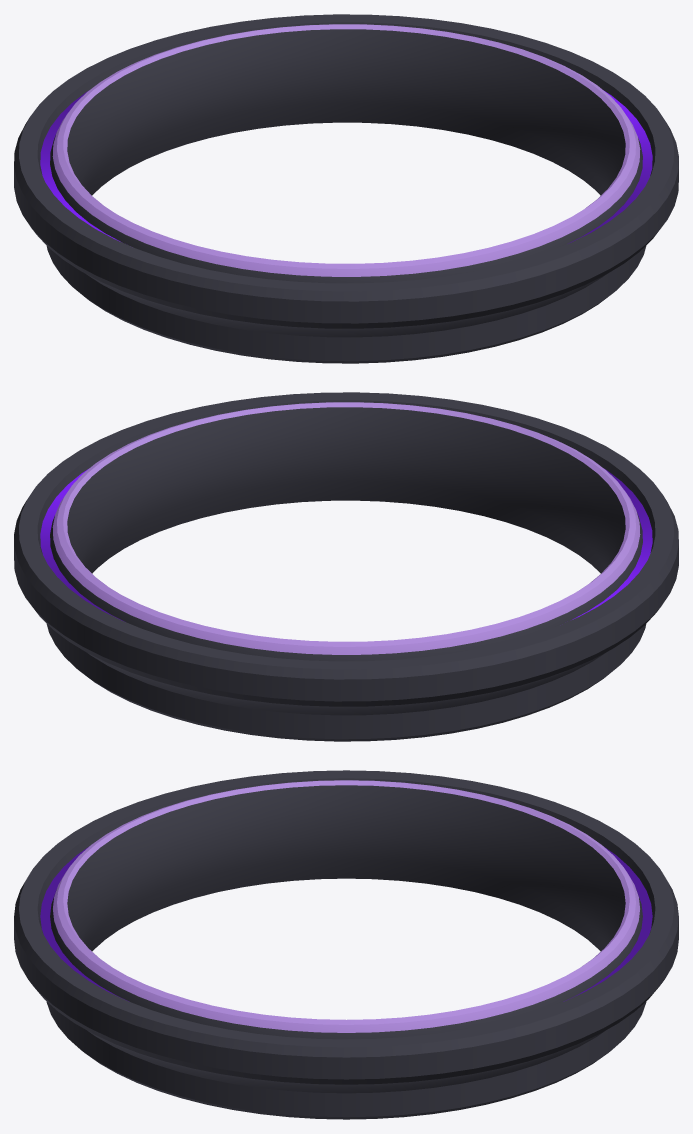
The model's file is Button_Frame_Cosmetics.glb.
3 views of the same model, one above another, from view 1: azimuth 30°, elevation 25°; view 2: azimuth 150°, elevation 25°; view 3: azimuth 270°, elevation 25° (orthographic).
Parts seen in each view (by area): view 1: Frame_01_PurpleNeon; view 2: Frame_01_PurpleNeon; view 3: Frame_01_PurpleNeon.
Part boxes in pixels (x1,y1,x2,y2): Frame_01_PurpleNeon: (14, 14, 678, 363); Frame_01_PurpleNeon: (14, 392, 678, 741); Frame_01_PurpleNeon: (14, 770, 678, 1119).
Size of the model in its own units: 1.92 by 0.3 by 1.92.
Materials: 54 (33 with a texture image).
